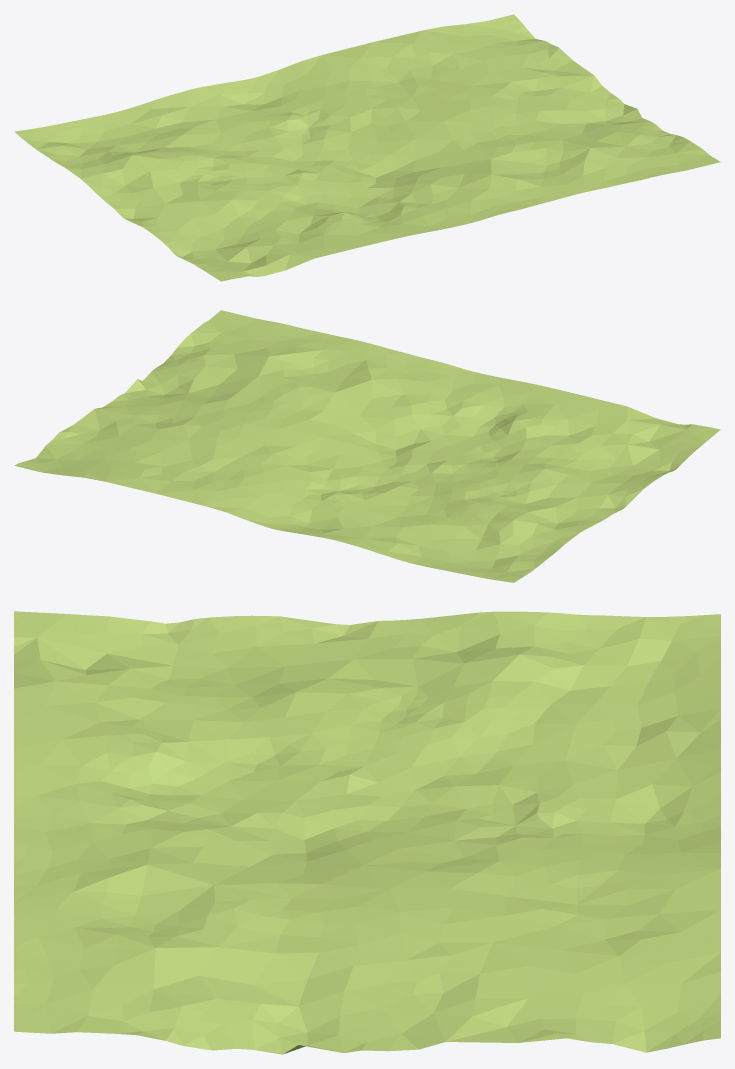
Rendered from landscape_003.glb.
3 renders of one model, top to bottom at view 1: azimuth 30°, elevation 25°; view 2: azimuth 150°, elevation 25°; view 3: azimuth 270°, elevation 25°, orthographic. The views are drawn at different scales.
Visible parts, largest first — view 1: landscape_003; view 2: landscape_003; view 3: landscape_003.
Part boxes in pixels (left/top/right/bottom): landscape_003: left=14, top=14, right=720, bottom=281; landscape_003: left=14, top=310, right=720, bottom=582; landscape_003: left=14, top=611, right=720, bottom=1054.
Size of the model in its own units: 44.19 by 1.75 by 31.73.
Materials: 1 (1 with a texture image).
